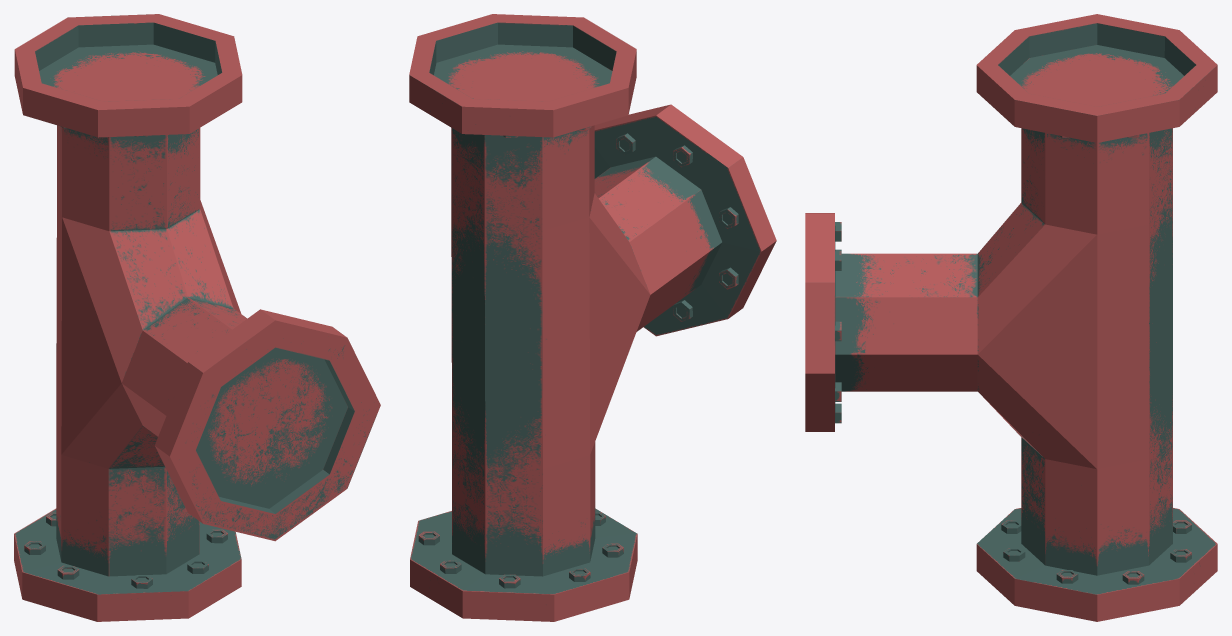
Rendered from PIPE_3.fbx.
3 views of the same model, side by side, from view 1: azimuth 30°, elevation 25°; view 2: azimuth 150°, elevation 25°; view 3: azimuth 270°, elevation 25° (orthographic).
Visible parts, largest first — view 1: Plane.001; view 2: Plane.001; view 3: Plane.001.
Part boxes in pixels (<box>): Plane.001: <box>14,14,380,621</box>; Plane.001: <box>409,14,776,621</box>; Plane.001: <box>805,14,1217,621</box>.
Size of the model in its own units: 561 by 1296 by 957.
